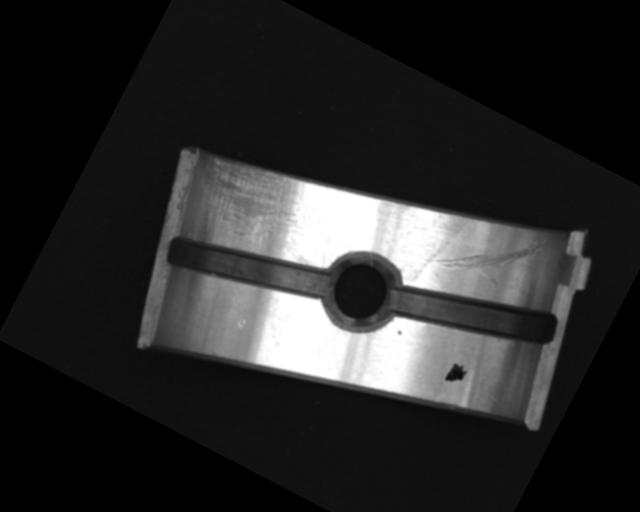blot: (443, 360, 470, 389)
bruise: (234, 315, 249, 330), (397, 330, 403, 336)
gap: (380, 244, 562, 385), (159, 201, 335, 334)
hole: (311, 239, 411, 343)
nick: (424, 192, 552, 311)
scratch: (176, 137, 345, 278)
